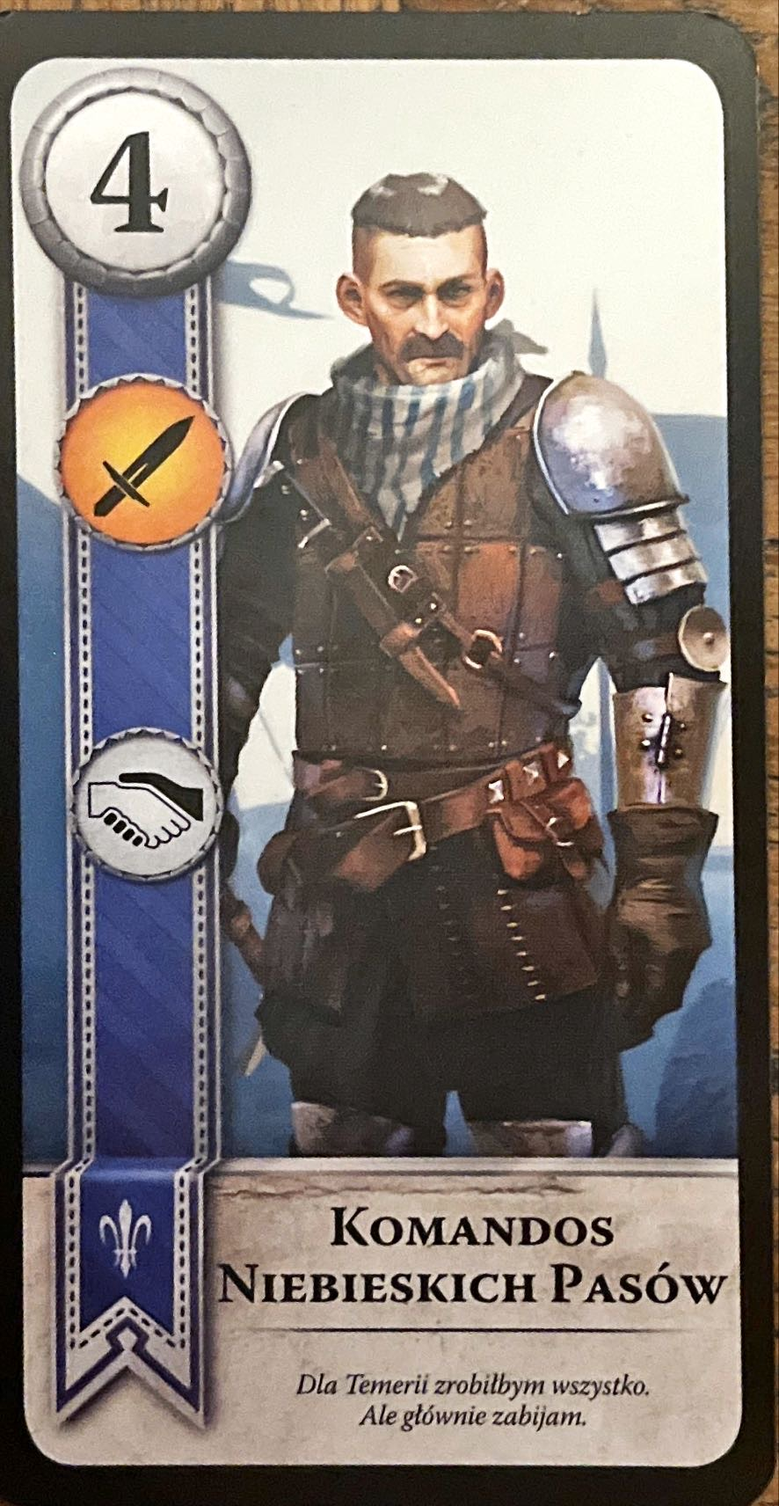4: (19, 69, 254, 297)
miecz: (51, 376, 236, 551)
wiez: (64, 727, 225, 883)
